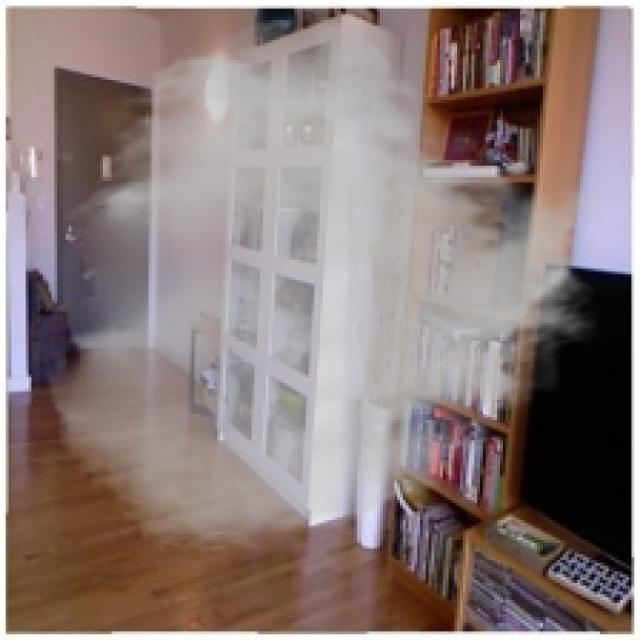smoke: (46, 12, 611, 557)
